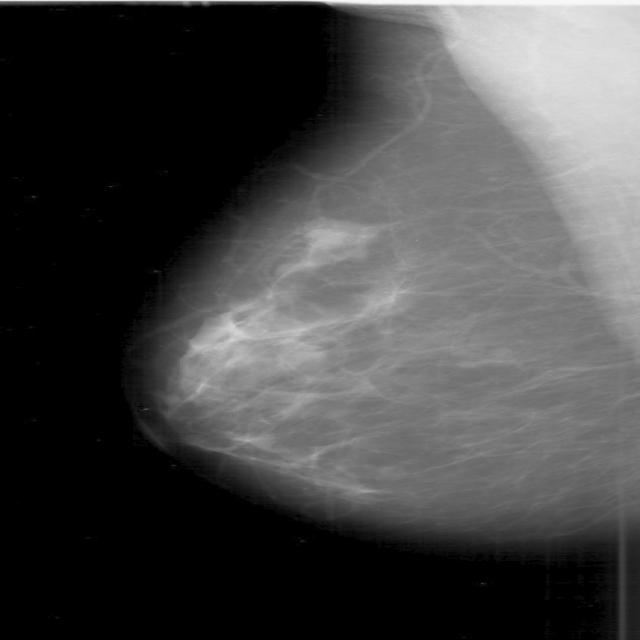tumour: (284, 220, 372, 267)
